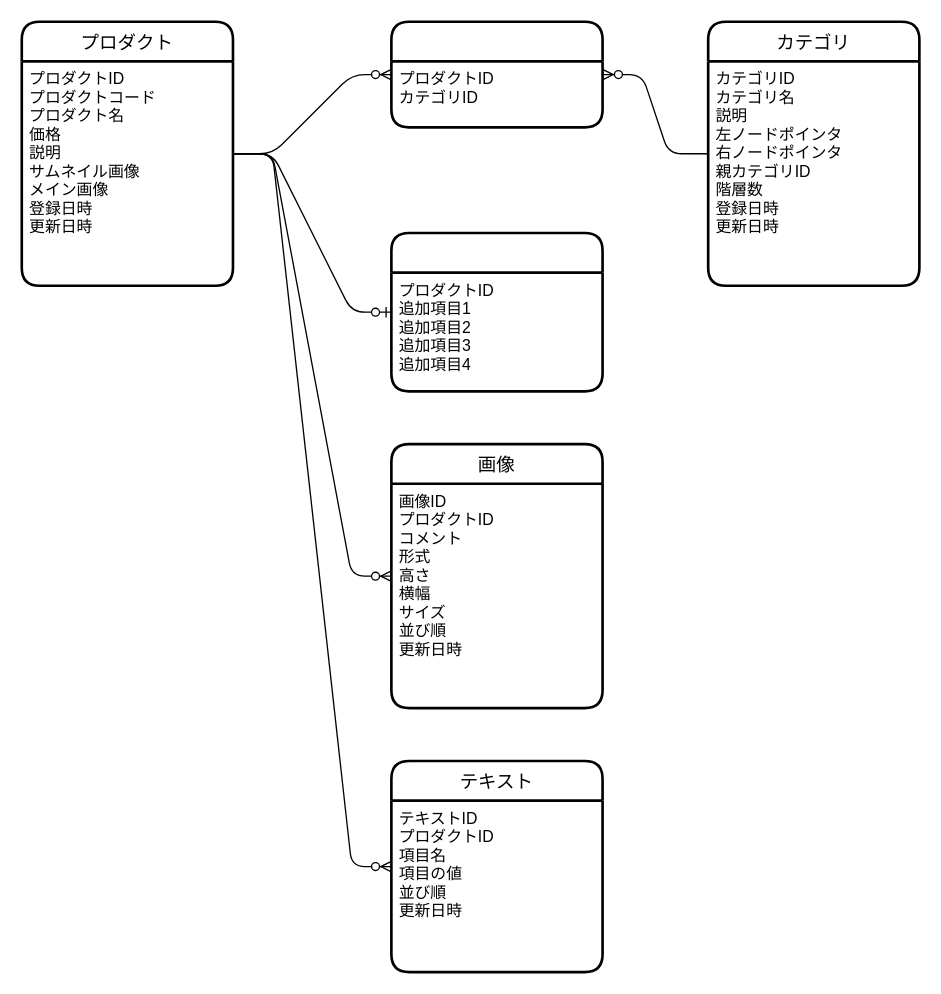
Some shapes in this 941 by 994 pixel diagram are drawn without their labels. The shapes that lost their labels are listed below. From the top down, each one's box as (x1, y1, x2, y2) in pixels, then its label:
(389, 20, 603, 128): プロダクト⇔カテゴリ
(389, 231, 603, 392): プロダクト拡張項目
